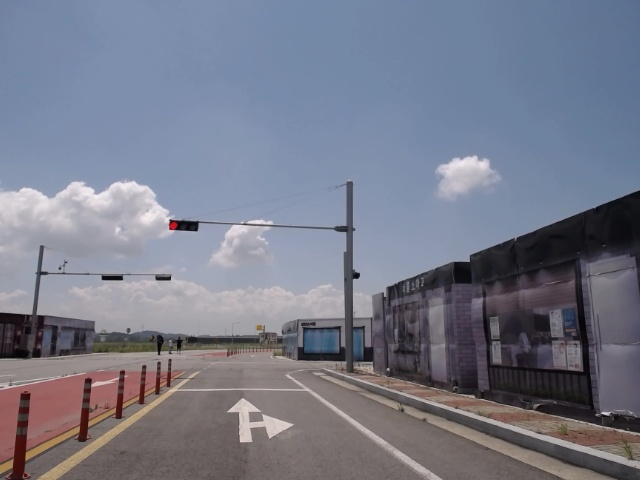red_3: (168, 220, 199, 231)
